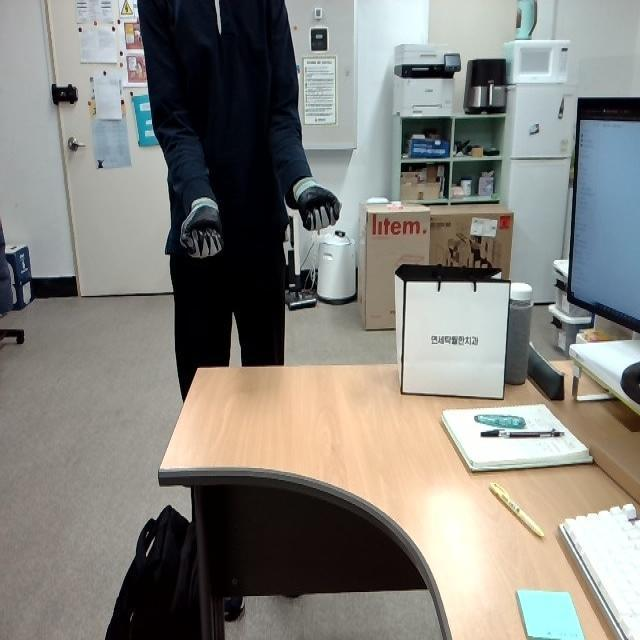gloved_hand: (281, 172, 343, 234), (175, 195, 229, 262)
